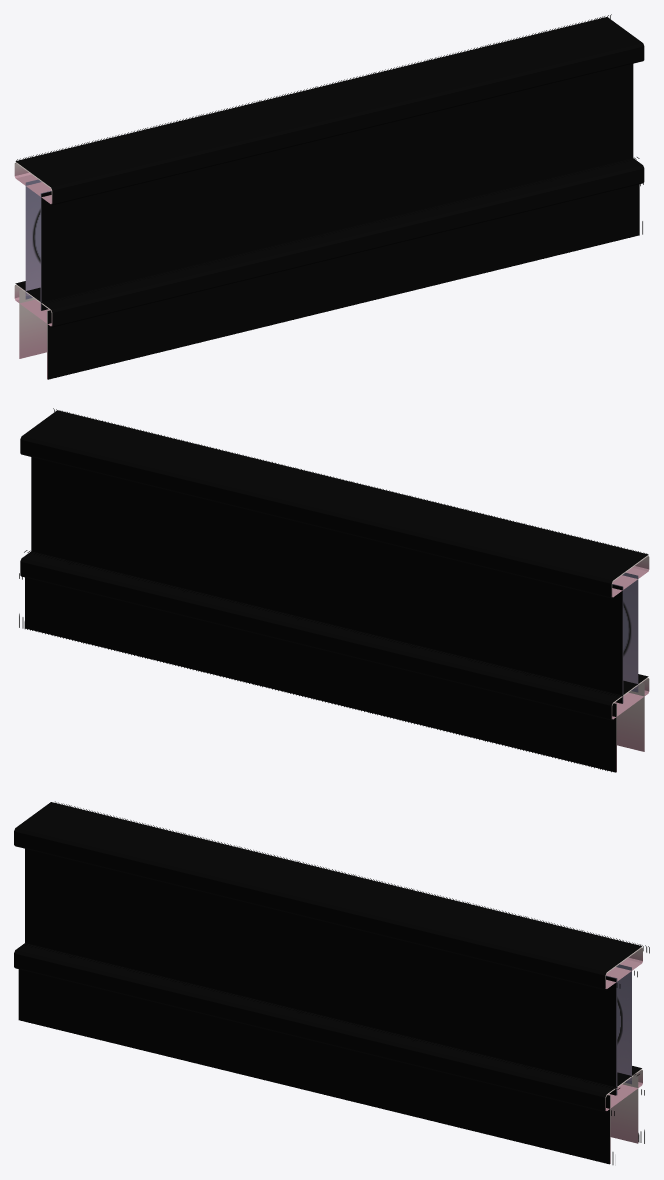
File: Wall_Small_01.glb
The picture shows the model from 3 angles, top to bottom: view 1: azimuth 30°, elevation 25°; view 2: azimuth 150°, elevation 25°; view 3: azimuth 330°, elevation 25°; orthographic projection.
Visible parts, largest first — view 1: Wall_Small_01; view 2: Wall_Small_01; view 3: Wall_Small_01.
Boxes of the visible parts, <box> form: Wall_Small_01: <box>14,14,644,379</box>; Wall_Small_01: <box>19,408,649,772</box>; Wall_Small_01: <box>14,801,649,1164</box>.
Bounding box in the file's own units: 4.04 × 1.26 × 0.4611.
3 materials, 2 textured.
